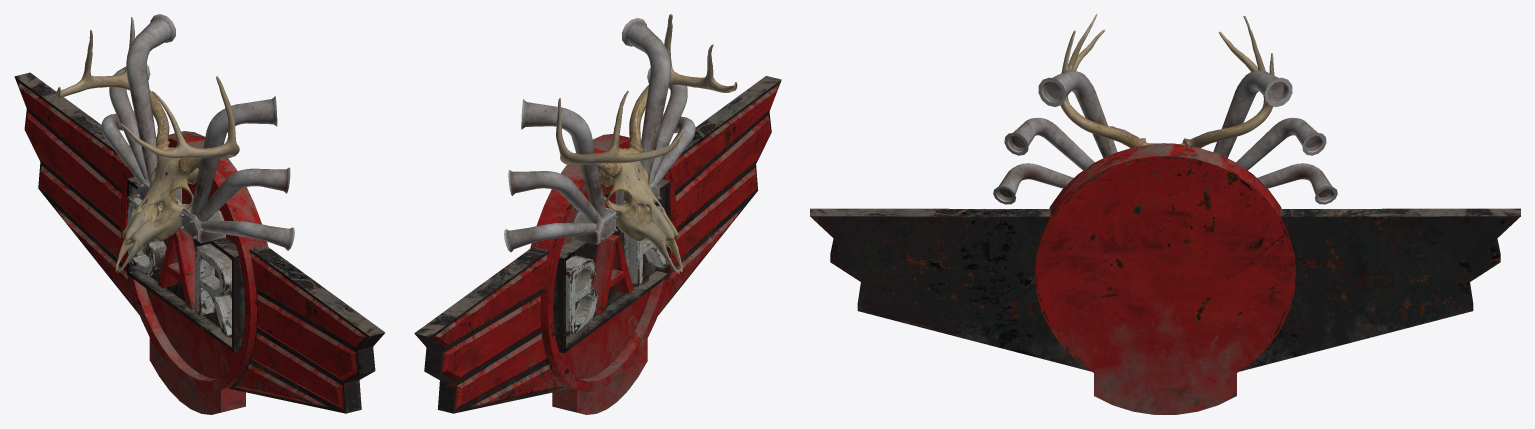
File: Prop_Skull_BarSign.fbx
The picture shows the model from 3 angles, left to right: view 1: azimuth 30°, elevation 25°; view 2: azimuth 150°, elevation 25°; view 3: azimuth 270°, elevation 25°; orthographic projection.
Visible parts, largest first — view 1: BarSign, DeerSkull; view 2: BarSign, DeerSkull; view 3: BarSign, DeerSkull.
Part boxes in pixels (left/top/right/bottom): BarSign: left=14, top=14, right=385, bottom=414; DeerSkull: left=56, top=17, right=239, bottom=272; BarSign: left=414, top=18, right=781, bottom=414; DeerSkull: left=556, top=14, right=737, bottom=274; BarSign: left=810, top=70, right=1520, bottom=414; DeerSkull: left=1060, top=14, right=1274, bottom=148.
Bounding box in the file's own units: 32.57 × 81.29 × 143.
